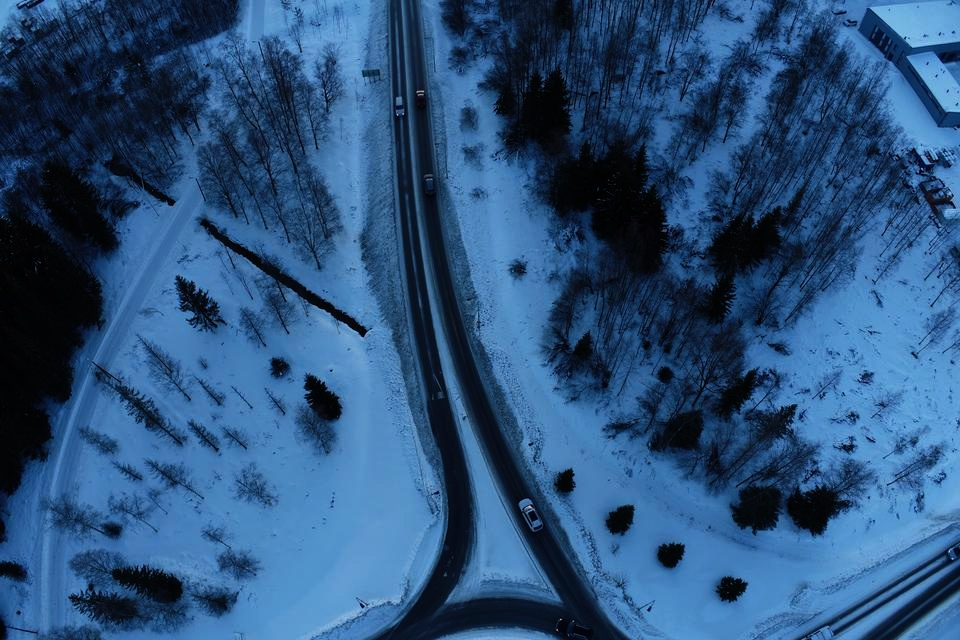roundabout: (328, 500, 691, 640)
